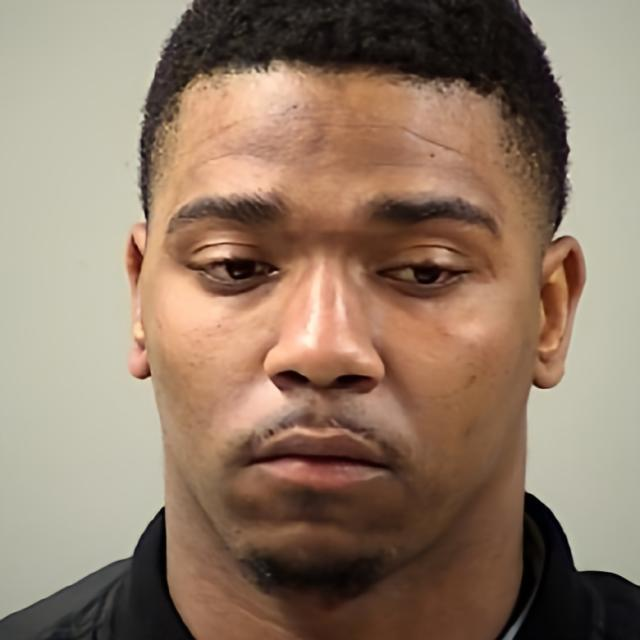sad: (145, 63, 529, 578)
